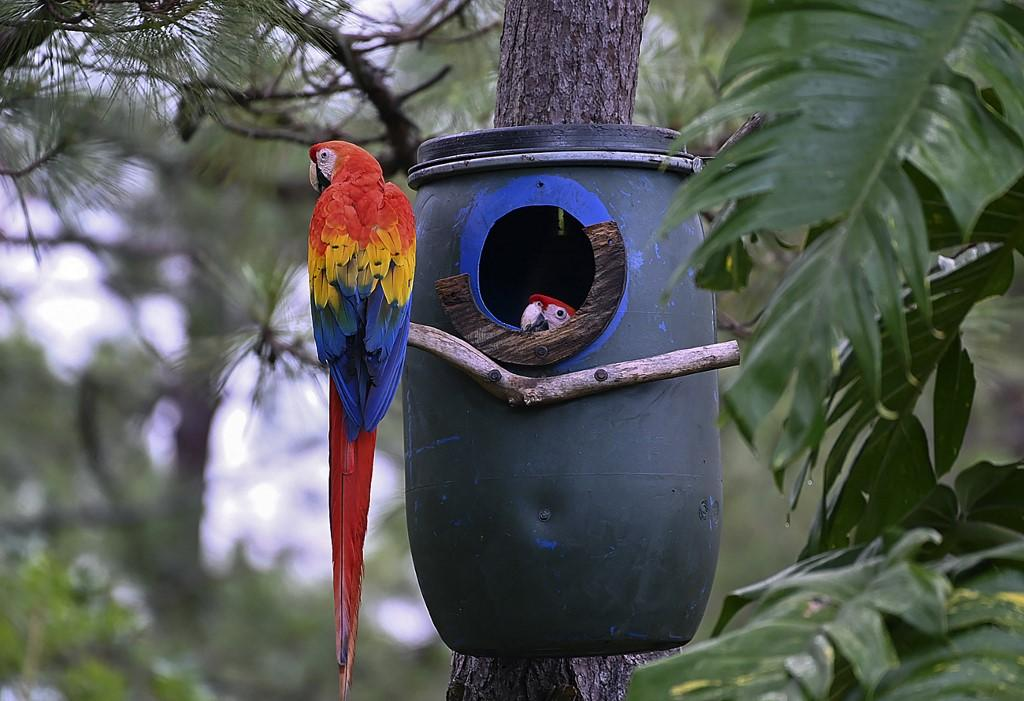Lapa: (290, 130, 433, 697)
